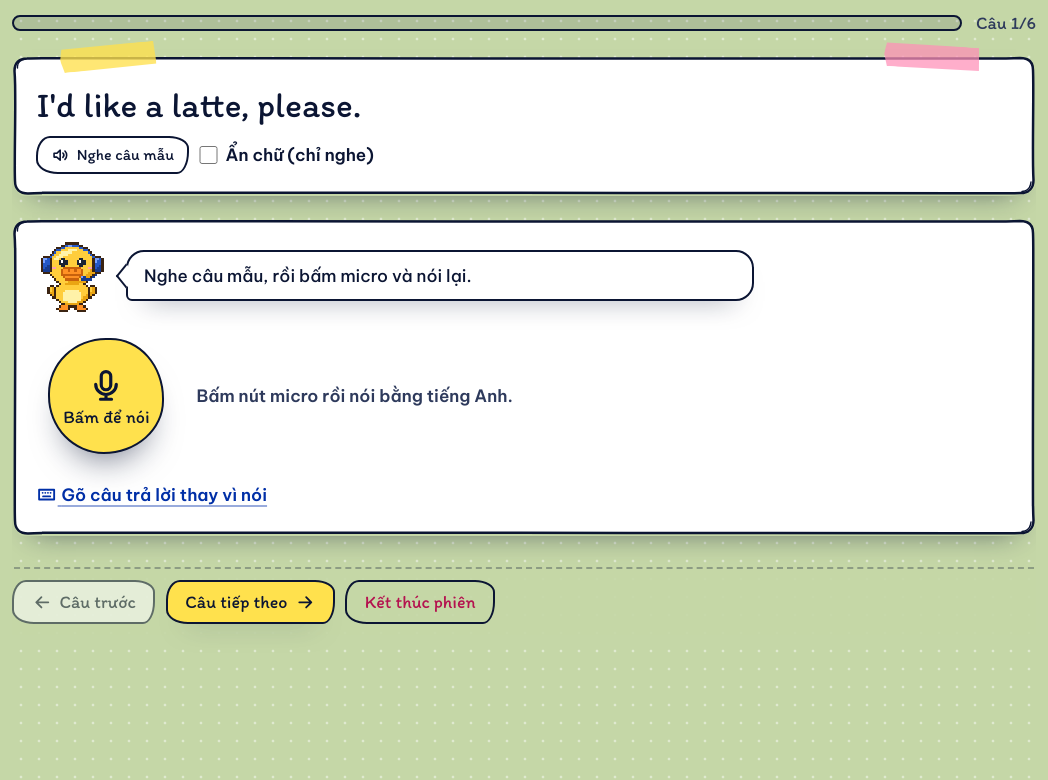
Test: Microphone states (mocked SpeechRecognition) › explains how to fix a denied microphone
Click the button with aria-label "Bắt đầu nói bằng micro": [106, 396] box x1=48 y1=338 x2=164 y2=454
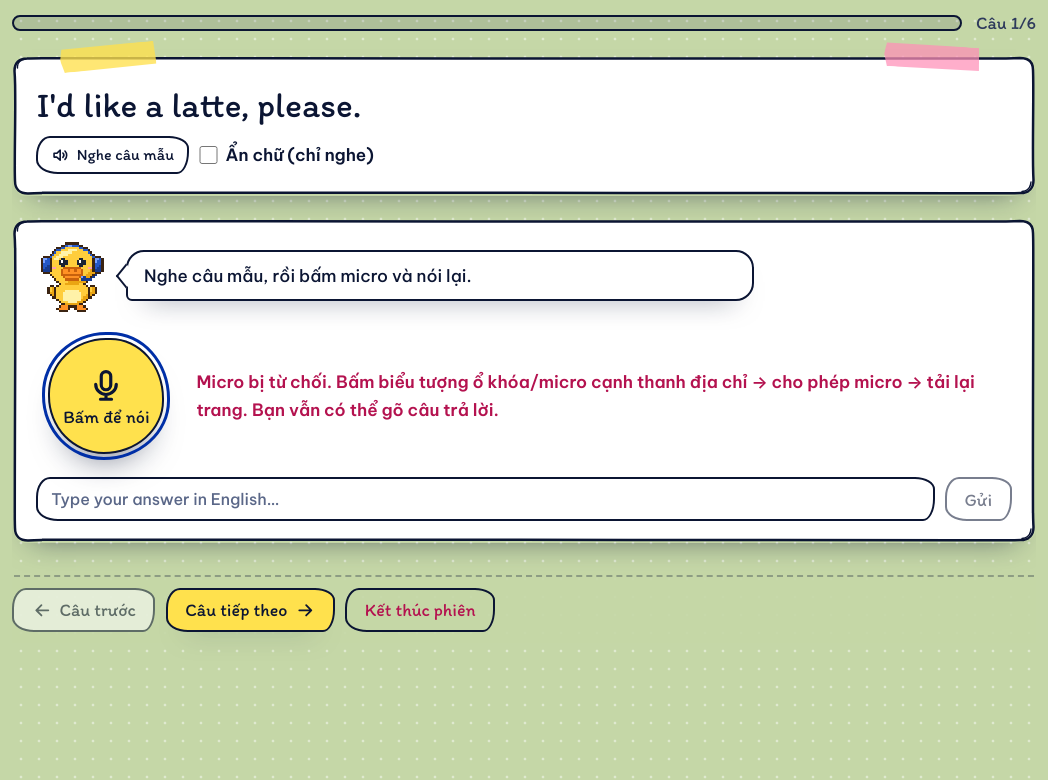
Expected: the message shows "Micro bị từ chối", x1=196 y1=371 x2=975 y2=421
Expected: the field is shown, x1=36 y1=478 x2=935 y2=522
